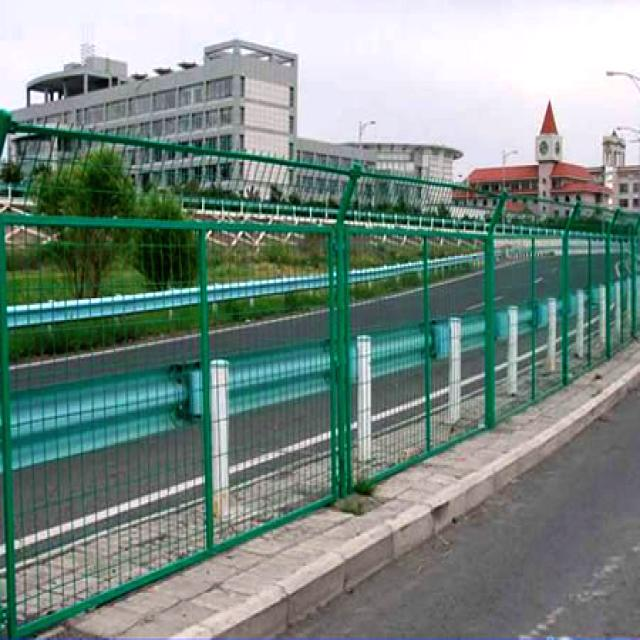Guard rail: (12, 364, 201, 471), (8, 289, 199, 329), (229, 340, 330, 414), (209, 276, 328, 303), (372, 324, 421, 379), (351, 263, 421, 283), (461, 316, 482, 349), (432, 255, 480, 268), (498, 311, 508, 340), (521, 308, 530, 333)
